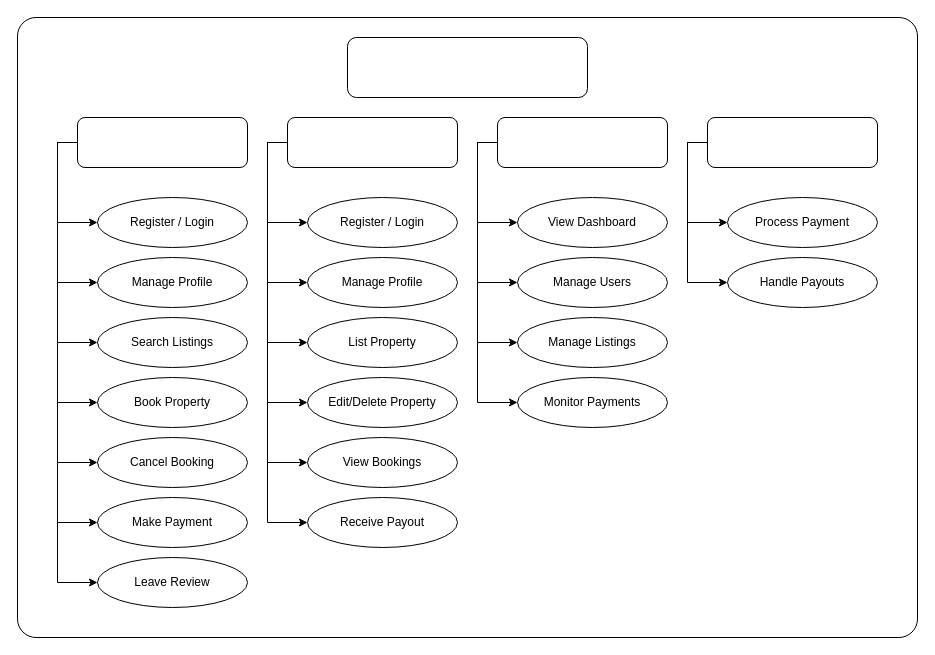
This 935x655 diagram has some shape labels left out. Each missing label, with the box of its shape:
Admin: (496, 116, 668, 168)
Guest: (76, 116, 248, 168)
Host: (286, 116, 458, 168)
Payment Service: (706, 116, 878, 168)
Use Case Diagram: (346, 36, 588, 98)
